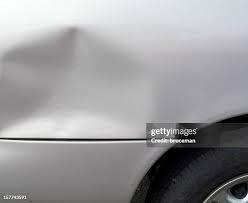dent: (0, 16, 148, 142)
